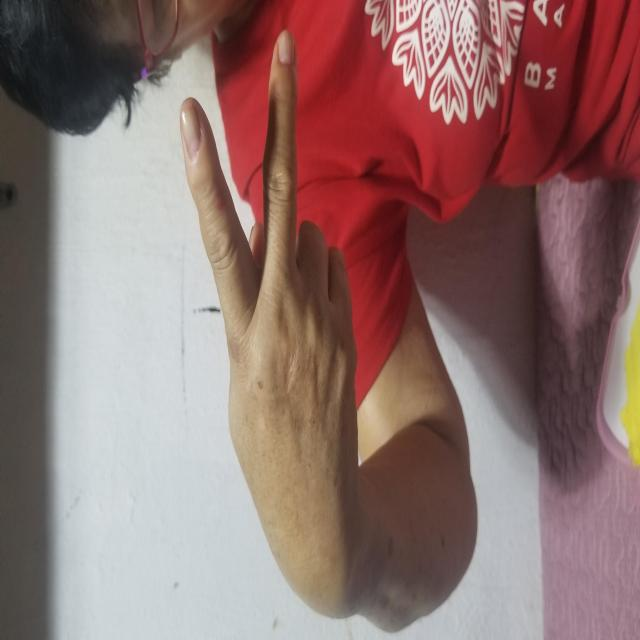K: (153, 180, 605, 358)
